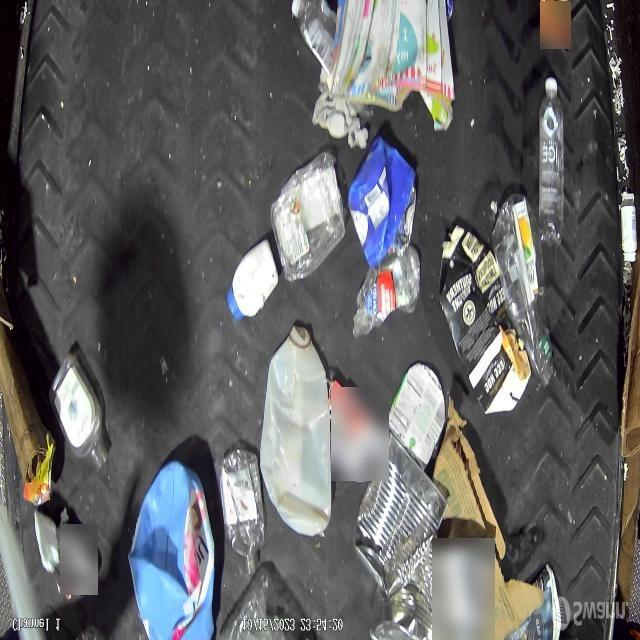milk_jug: (260, 330, 332, 536)
non_white_jug: (439, 225, 532, 416), (129, 460, 214, 638)
plastic_bottle: (490, 192, 556, 388), (218, 448, 265, 576), (539, 76, 566, 248), (292, 0, 336, 75)
